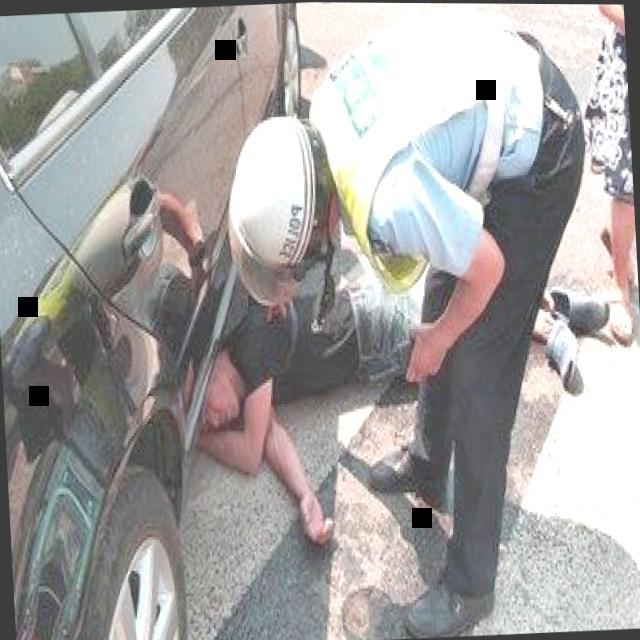Fall-Detected: (164, 135, 636, 588)
